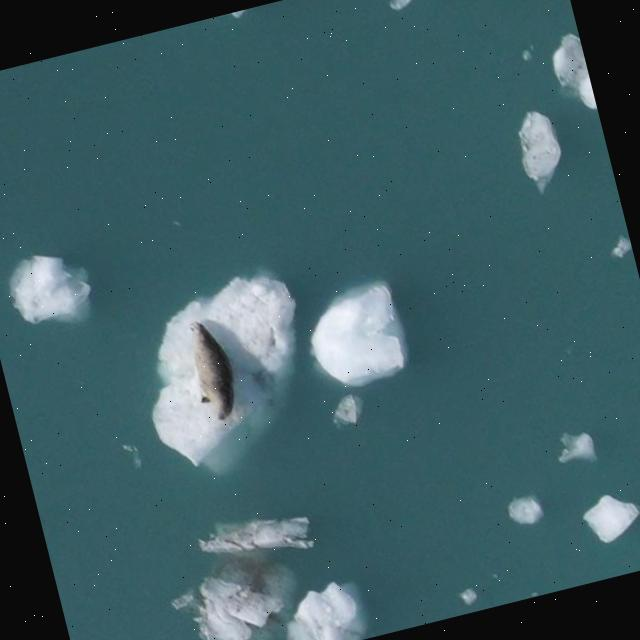seal: (185, 316, 241, 424)
